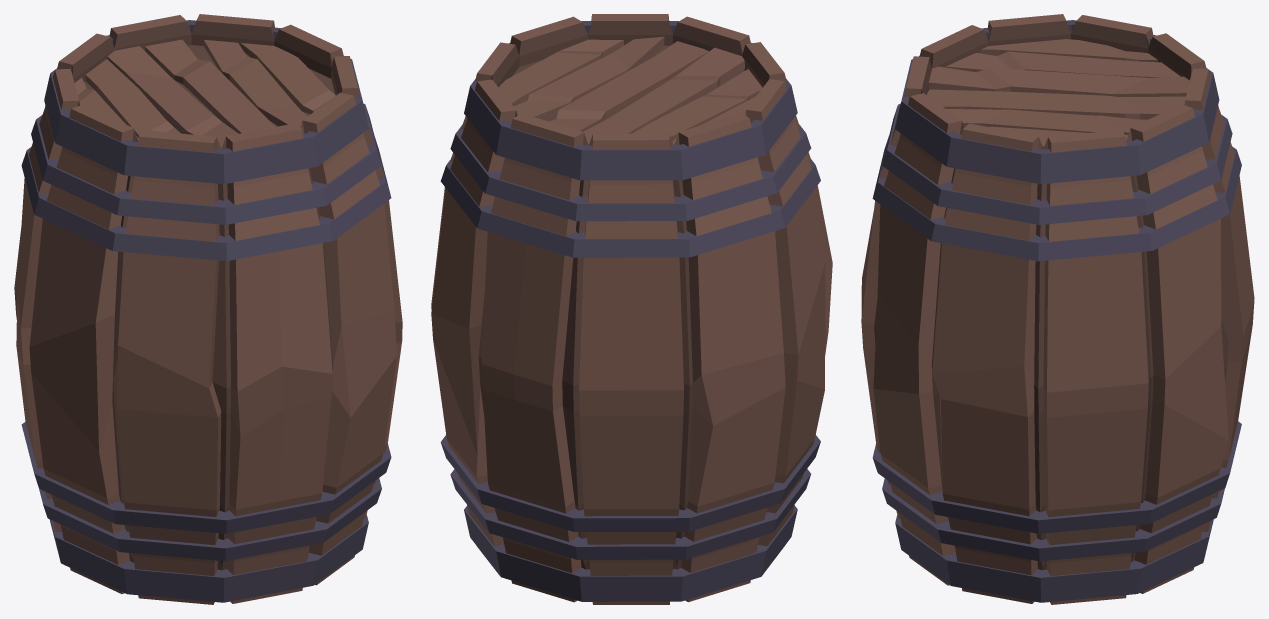
The model's file is barrel.glb.
3 renders of one model, left to right at view 1: azimuth 30°, elevation 25°; view 2: azimuth 150°, elevation 25°; view 3: azimuth 270°, elevation 25°, orthographic.
Visible parts, largest first — view 1: Barrel; view 2: Barrel; view 3: Barrel.
Boxes of the visible parts, bbox=[...] form: Barrel: bbox=[14, 14, 402, 604]; Barrel: bbox=[431, 14, 832, 604]; Barrel: bbox=[861, 14, 1254, 604].
Size of the model in its own units: 1.04 by 1.35 by 1.03.
